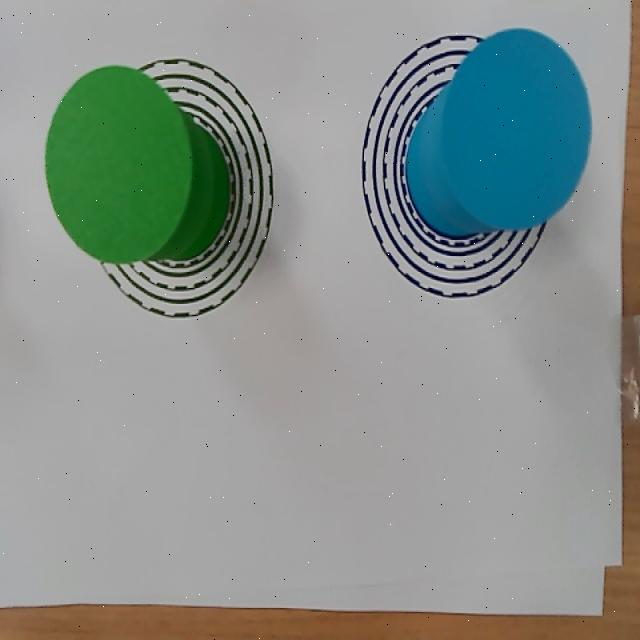b: (442, 27, 591, 225)
g: (45, 64, 191, 262)
